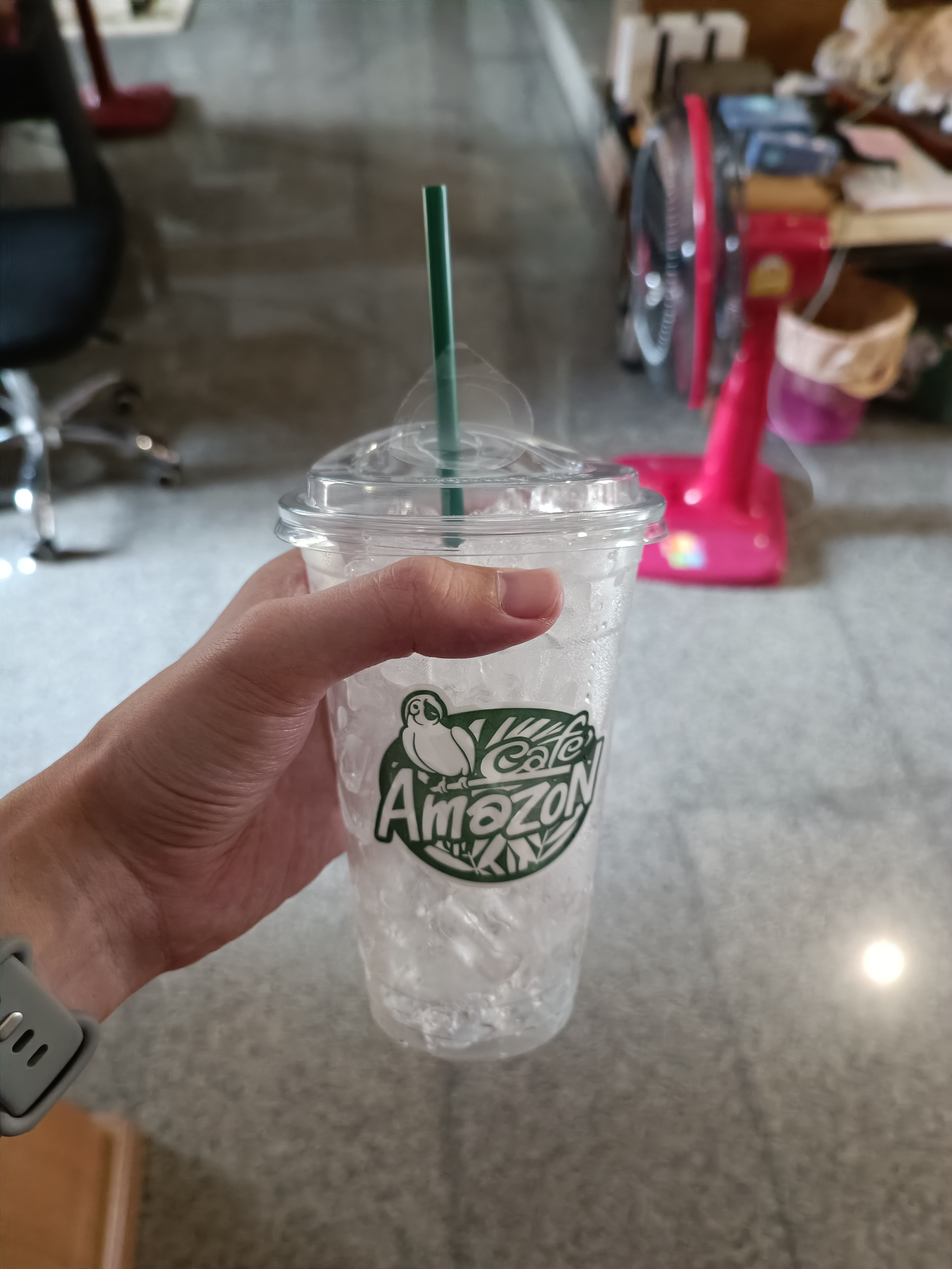plastic: (267, 167, 684, 1075)
